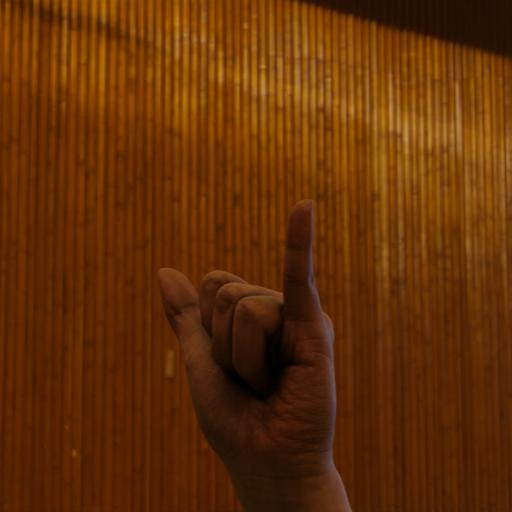Y: (148, 198, 367, 491)
